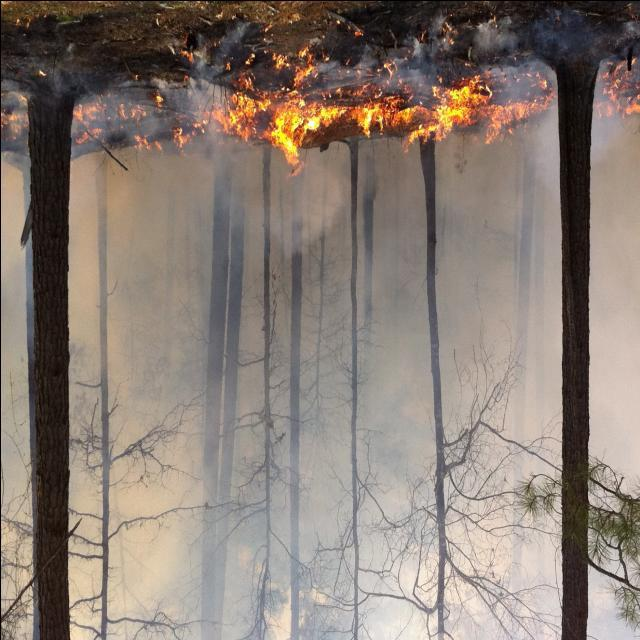Fire: (219, 94, 477, 159)
